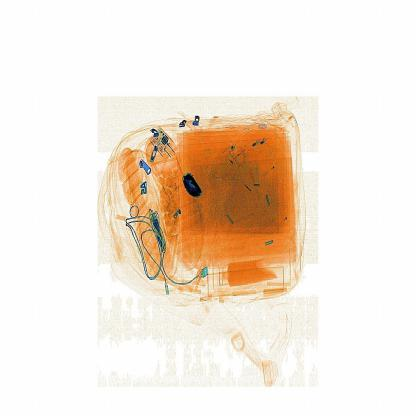scissors: (175, 164, 203, 200)
